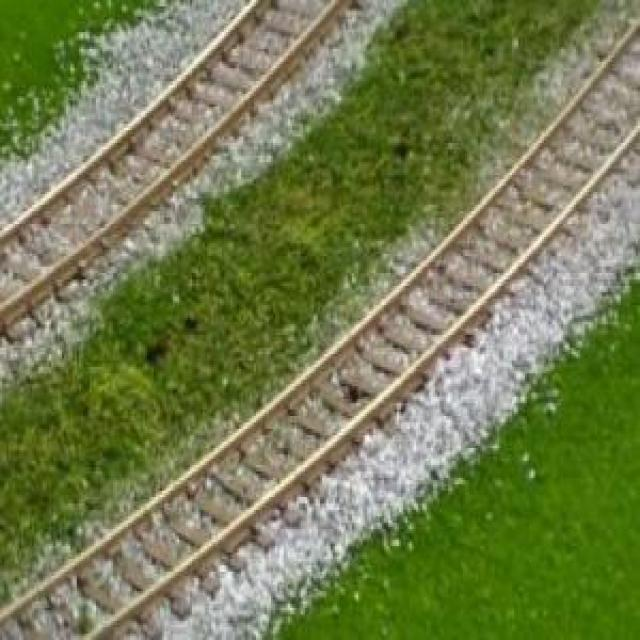rail: (1, 1, 640, 640), (2, 1, 369, 368)
